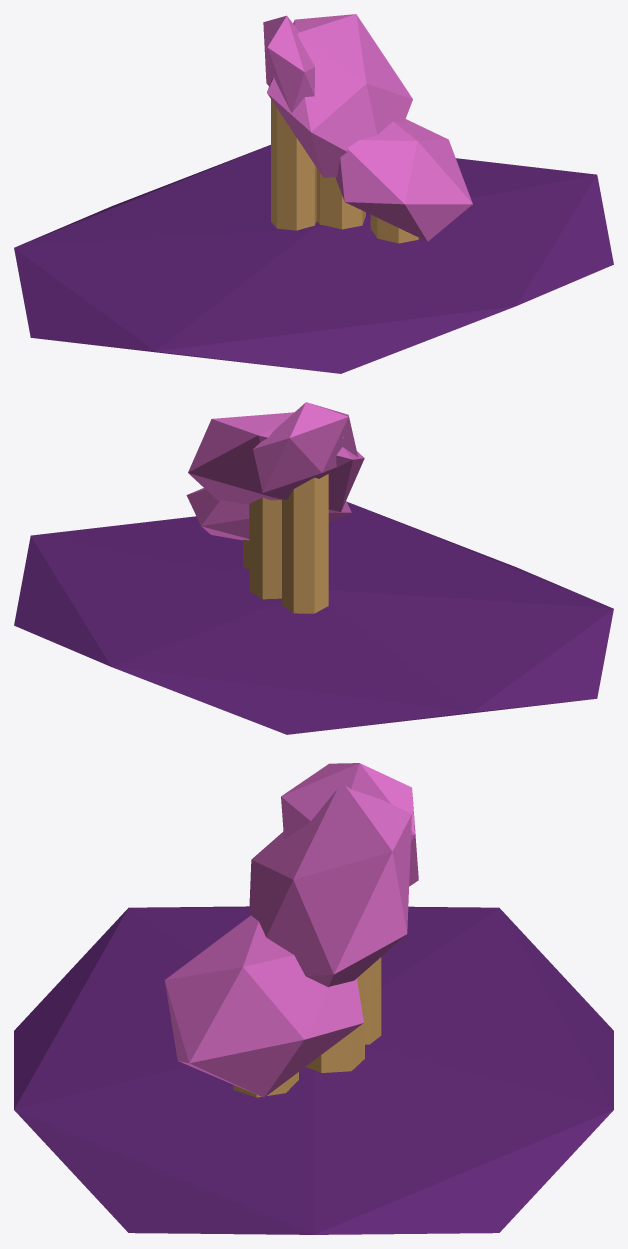
The model's file is mushroom_cluster_a.glb.
3 renders of one model, top to bottom at view 1: azimuth 30°, elevation 25°; view 2: azimuth 150°, elevation 25°; view 3: azimuth 270°, elevation 25°, orthographic. The views are drawn at different scales.
Parts seen in each view (by area): view 1: Mire_Growth, Cap_2, Cap_3, Stem_1.006, Cap_1, Stem_2.006, Stem_3.006; view 2: Mire_Growth, Cap_2, Cap_1, Stem_1.006, Stem_2.006, Cap_3; view 3: Mire_Growth, Cap_2, Cap_3, Cap_1, Stem_2.006, Stem_1.006.
Part boxes in pixels (x1,y1,x2,y2): Mire_Growth: [14, 145, 613, 373]; Cap_2: [267, 14, 412, 177]; Cap_3: [335, 119, 472, 241]; Stem_1.006: [271, 99, 316, 230]; Cap_1: [263, 15, 314, 112]; Stem_2.006: [316, 168, 365, 229]; Stem_3.006: [370, 215, 418, 243]; Mire_Growth: [14, 502, 613, 734]; Cap_2: [188, 412, 364, 512]; Cap_1: [253, 402, 358, 499]; Stem_1.006: [282, 474, 328, 613]; Stem_2.006: [249, 497, 281, 599]; Cap_3: [186, 488, 351, 540]; Mire_Growth: [14, 906, 613, 1234]; Cap_2: [249, 785, 411, 987]; Cap_3: [164, 915, 363, 1097]; Cap_1: [281, 763, 418, 886]; Stem_2.006: [305, 971, 364, 1072]; Stem_1.006: [365, 957, 381, 1044].
Size of the model in its own units: 1.7 by 0.7398 by 1.19.
